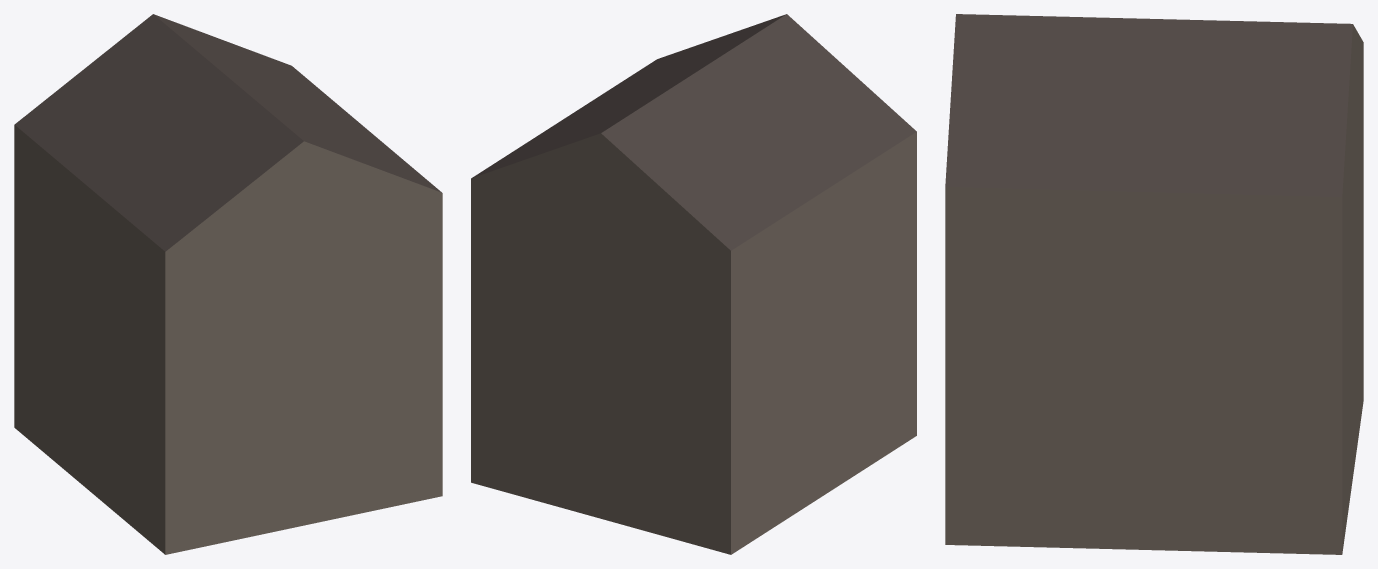
The picture shows the model from 3 angles, left to right: view 1: azimuth 30°, elevation 25°; view 2: azimuth 150°, elevation 25°; view 3: azimuth 270°, elevation 25°; orthographic projection. The views are drawn at different scales.
Parts seen in each view (by area): view 1: HP-w1424106413; view 2: HP-w1424106413; view 3: HP-w1424106413.
Boxes of the visible parts, x1,y1,x2,y2 form: HP-w1424106413: (14,14,442,554); HP-w1424106413: (471,14,916,554); HP-w1424106413: (945,14,1363,554).
Size of the model in its own units: 8.87 by 11.41 by 9.54.
